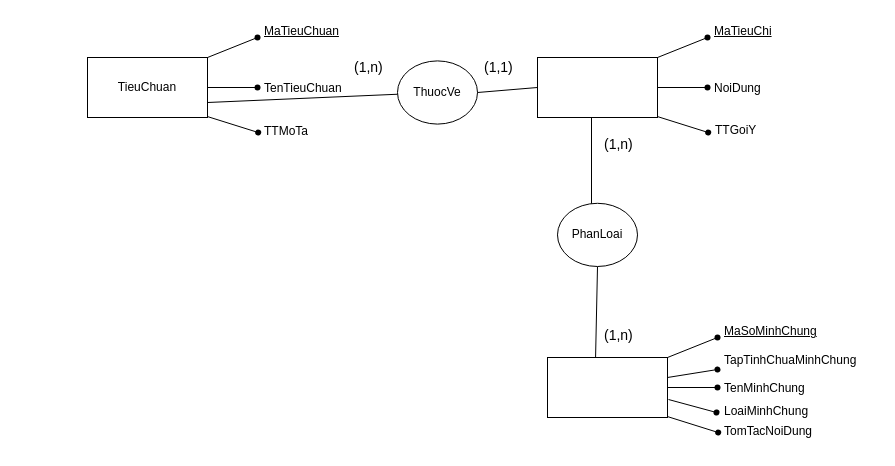
Image size: 895x466. Some labels were removed from this diagram. Each missing label, with the box of its shape:
MinhChung: (546, 356, 668, 418)
TieuChi: (536, 56, 658, 118)
